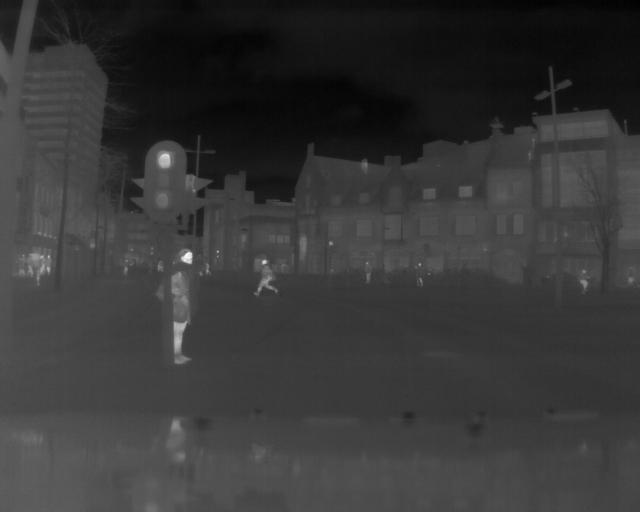person: (167, 248, 195, 368), (254, 256, 276, 296)
